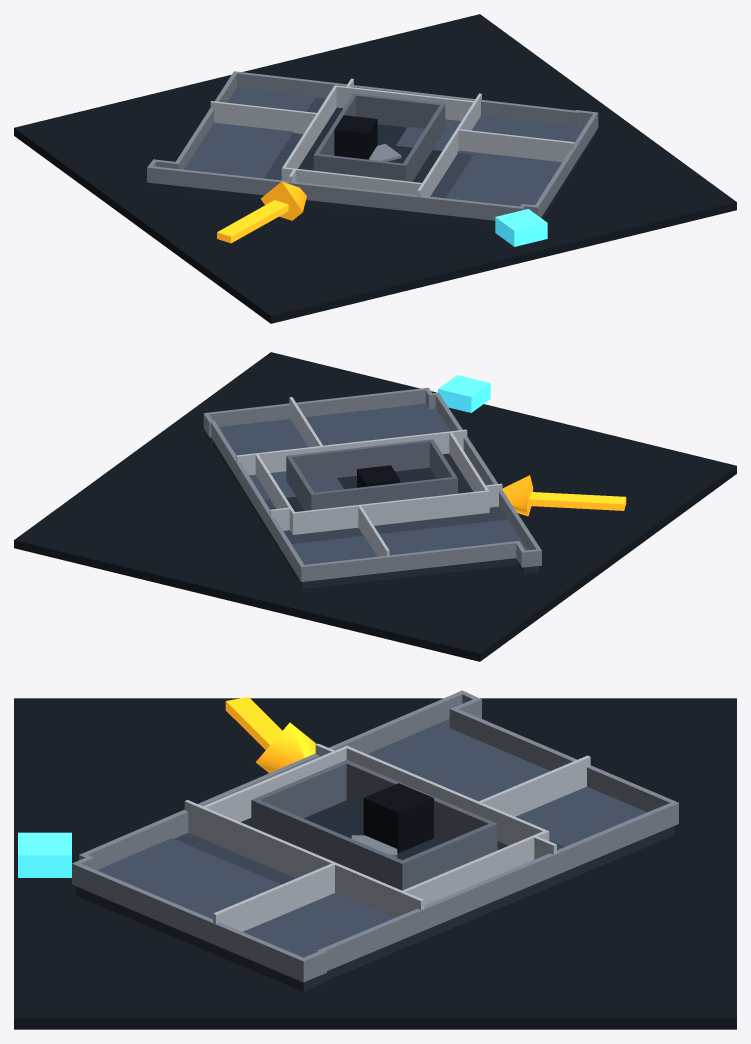
3 renders of one model, top to bottom at view 1: azimuth 30°, elevation 25°; view 2: azimuth 150°, elevation 25°; view 3: azimuth 270°, elevation 25°, orthographic. The views are drawn at different scales.
Visible parts, largest first — view 1: FireSight 1018 Mission St floor 1; view 2: FireSight 1018 Mission St floor 1; view 3: FireSight 1018 Mission St floor 1.
Part boxes in pixels (<box>): FireSight 1018 Mission St floor 1: <box>14,14,736,323</box>; FireSight 1018 Mission St floor 1: <box>14,352,736,661</box>; FireSight 1018 Mission St floor 1: <box>14,690,736,1029</box>.
Size of the model in its own units: 0.3649 by 0.037 by 0.3485.
